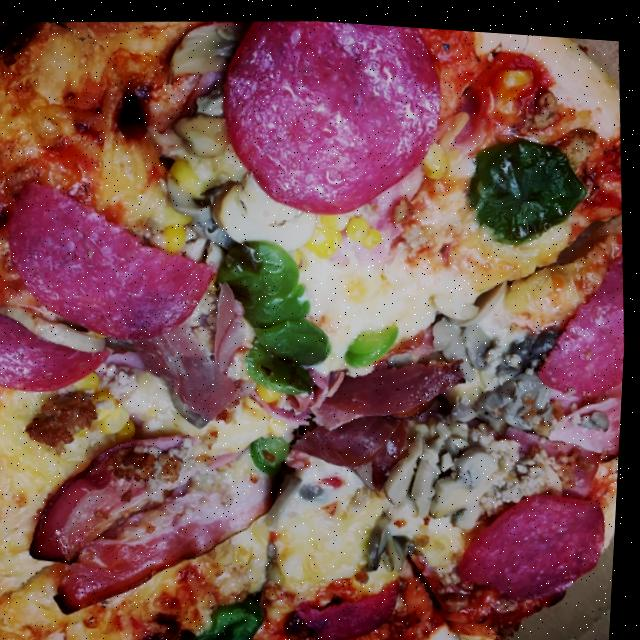mushrooms: (209, 162, 319, 253), (430, 439, 508, 526), (1, 298, 106, 356), (431, 308, 481, 377), (369, 503, 421, 569), (381, 433, 431, 501), (407, 435, 449, 515), (461, 315, 494, 359), (482, 345, 511, 382), (477, 384, 510, 411), (518, 363, 541, 387), (0, 247, 7, 309)
pizza: (0, 0, 640, 640)
